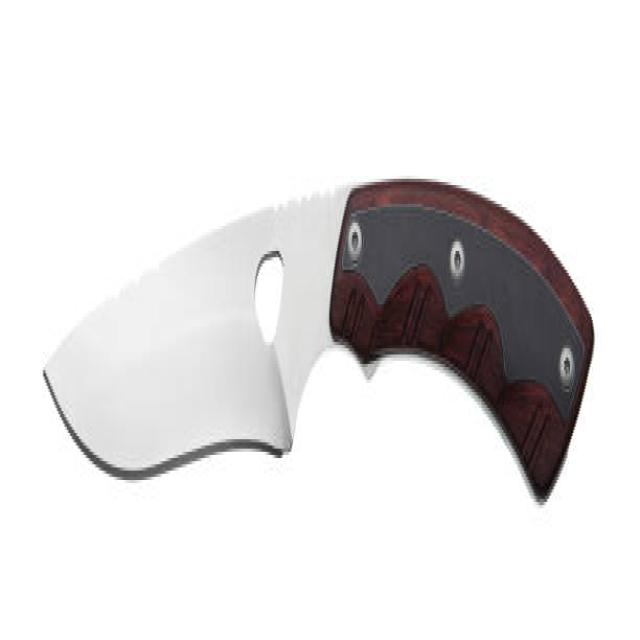knife: (42, 175, 598, 523)
